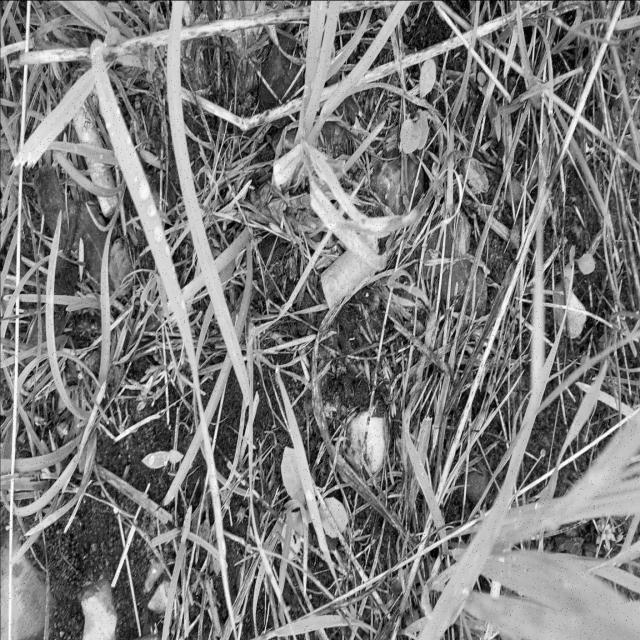other waste: (320, 231, 380, 310)
